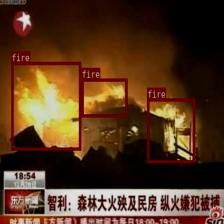fire: (10, 62, 80, 150), (146, 98, 194, 162), (81, 78, 127, 117)
